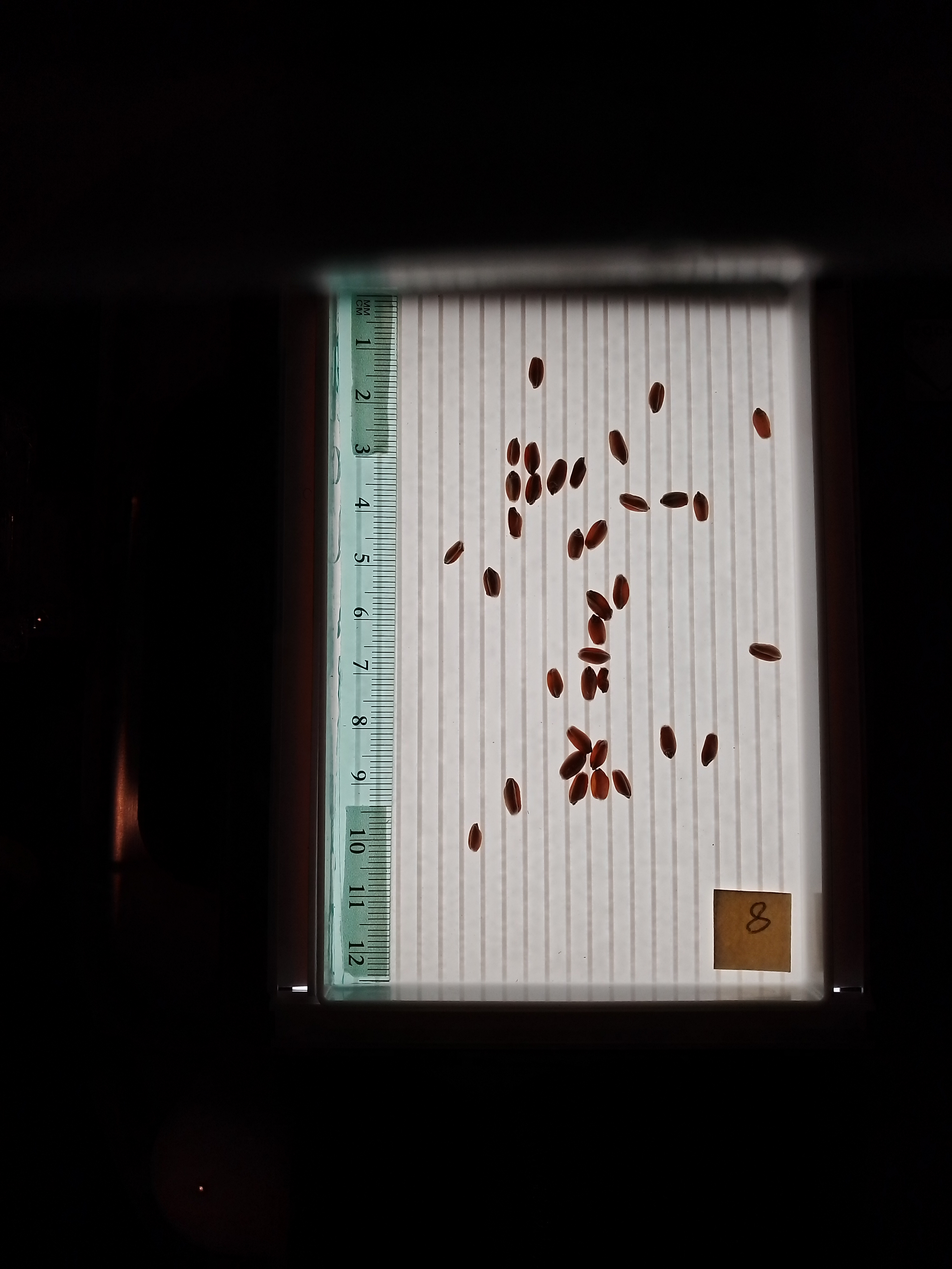seed mask: (560, 751, 586, 779), (567, 727, 592, 755), (587, 592, 612, 619), (609, 430, 628, 465), (752, 408, 772, 439), (548, 460, 566, 494), (504, 779, 521, 814), (750, 643, 781, 662), (569, 773, 588, 804), (586, 521, 607, 549), (613, 576, 630, 609), (660, 725, 677, 758), (612, 770, 632, 798), (591, 771, 610, 800), (621, 494, 649, 513), (701, 734, 718, 765), (588, 616, 606, 645), (581, 668, 597, 700), (567, 530, 584, 560), (525, 475, 542, 505), (590, 741, 608, 769), (484, 568, 501, 597), (693, 492, 709, 522), (570, 458, 586, 488), (524, 443, 540, 473), (649, 383, 665, 412), (580, 648, 609, 664), (444, 542, 464, 565), (662, 491, 687, 509), (529, 358, 544, 387), (547, 670, 563, 697), (506, 472, 520, 501), (508, 509, 522, 537), (468, 824, 482, 852), (507, 438, 520, 465)
